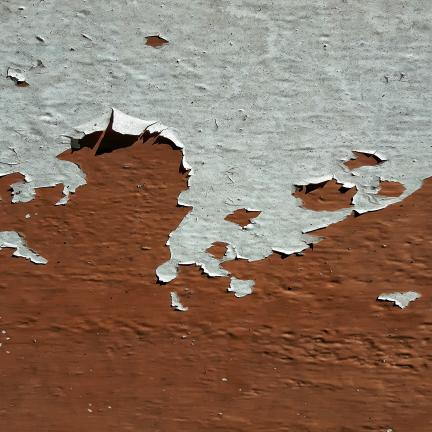besi_tidak_karat: (0, 0, 431, 281)
karat: (0, 140, 431, 431)
